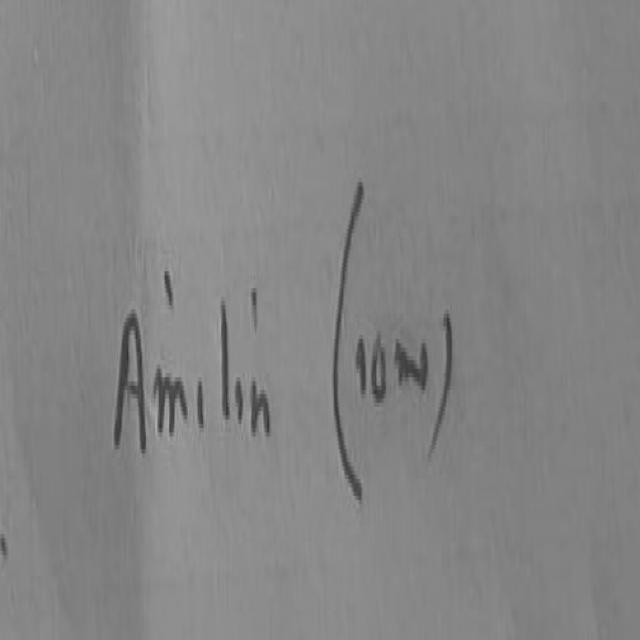0: (372, 335, 386, 401)
1: (357, 339, 367, 424)
A: (114, 309, 145, 451)
i: (235, 372, 246, 443), (197, 381, 203, 426)
l: (222, 301, 229, 417)
m: (154, 369, 192, 439)
n: (252, 370, 270, 451)
